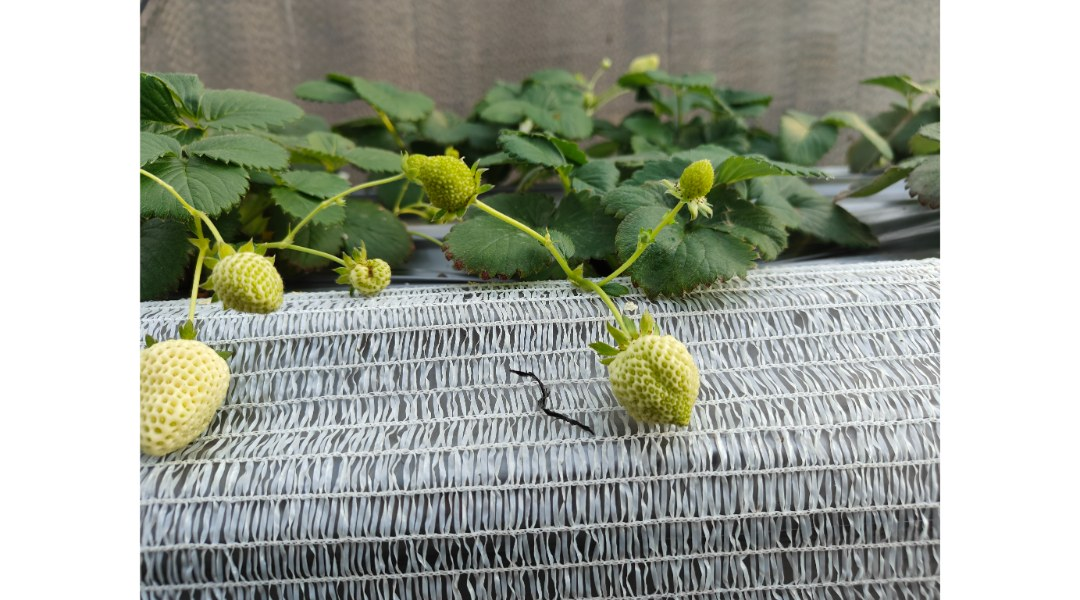berry: (128, 316, 241, 462), (586, 323, 710, 425), (208, 242, 288, 322), (409, 135, 474, 230), (657, 154, 729, 216), (352, 243, 400, 304)
strain: (303, 155, 399, 239), (606, 200, 687, 283), (484, 202, 566, 270), (581, 281, 632, 344), (149, 169, 209, 218)
